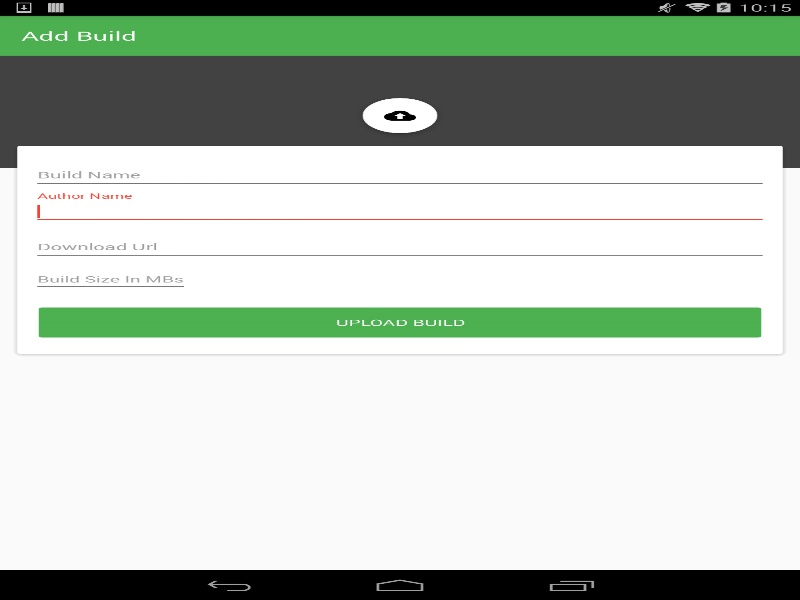Button: (38, 307, 761, 337), (346, 86, 453, 144)
Input: (32, 162, 768, 188), (32, 198, 768, 224), (32, 234, 768, 260), (32, 266, 189, 291)
